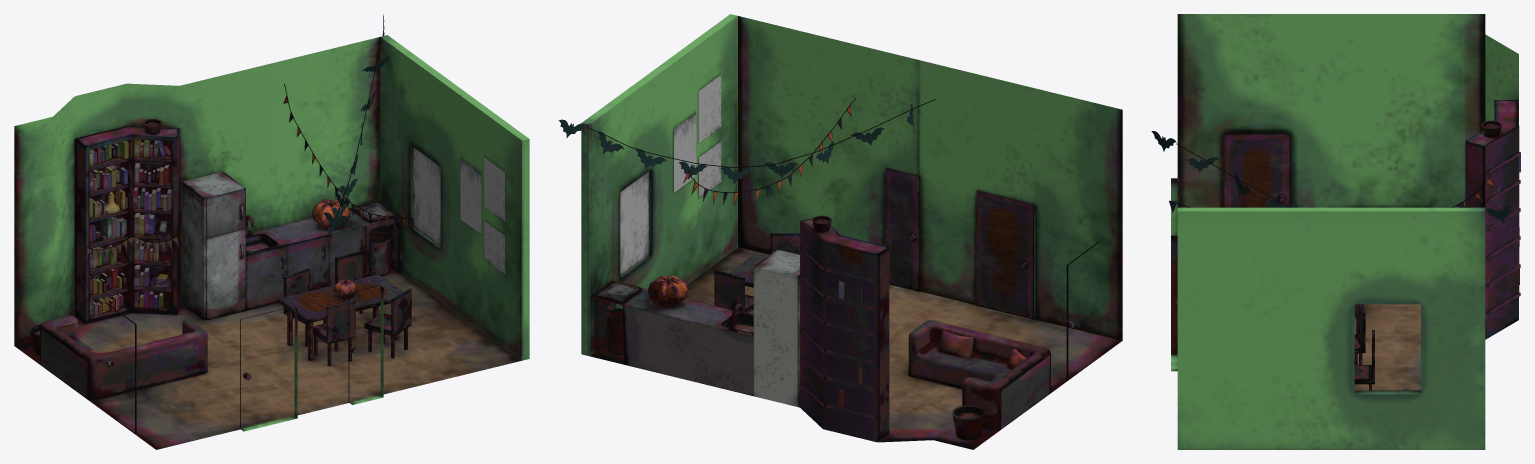
Rendered from house_single_texture.glb.
3 views of the same model, side by side, from view 1: azimuth 30°, elevation 25°; view 2: azimuth 150°, elevation 25°; view 3: azimuth 270°, elevation 25° (orthographic). The views are drawn at different scales.
Parts seen in each view (by area): view 1: mainRoomWall2, mainRoomFloor, mainRoomWall3, mainRoomBookshelf, Fridge, MainRoomsofa, kitchen, tableTop, window, shelves2, shelves1, painting1 (+19 smaller); view 2: mainRoomWall4, mainRoomWall3, mainRoomBookshelf, mainRoomFloor, kitchen, mainRoomWallDoorsClosed, MainRoomsofa, Fridge, window, batDecor, painting1, painting3 (+11 smaller); view 3: mainRoomWall3, mainRoomWall1, mainRoomBookshelf, mainRoomFloor, mainRoomDoor, mainRoomWall2, mainRoomWall4, batDecor, shelves2, ChairTop002, ChairTop003.
Boxes of the visible parts, x1,y1,x2,y2 form: mainRoomWall2: (14, 37, 380, 345); mainRoomFloor: (15, 268, 521, 449); mainRoomWall3: (380, 35, 529, 360); mainRoomBookshelf: (74, 126, 179, 324); Fridge: (182, 172, 245, 320); MainRoomsofa: (40, 315, 207, 400); kitchen: (246, 201, 402, 310); tableTop: (279, 274, 402, 323); window: (413, 147, 440, 246); shelves2: (133, 149, 172, 292); shelves1: (89, 156, 129, 300); painting1: (460, 158, 481, 234); mainRoomWall4: (738, 16, 1122, 340); mainRoomWall3: (581, 14, 737, 355); mainRoomBookshelf: (800, 218, 889, 442); mainRoomFloor: (589, 247, 1121, 449); kitchen: (589, 280, 753, 396); mainRoomWallDoorsClosed: (886, 168, 1033, 319); MainRoomsofa: (908, 320, 1050, 430); Fridge: (753, 249, 799, 406); window: (620, 171, 649, 275); batDecor: (558, 103, 913, 183); painting1: (674, 113, 696, 192); painting3: (698, 75, 721, 143); mainRoomWall3: (1177, 207, 1485, 449); mainRoomWall1: (1177, 14, 1485, 207); mainRoomBookshelf: (1465, 100, 1518, 339); mainRoomFloor: (1354, 304, 1420, 390); mainRoomDoor: (1224, 133, 1289, 207); mainRoomWall2: (1485, 34, 1518, 121); mainRoomWall4: (1171, 178, 1177, 371); batDecor: (1151, 131, 1512, 223); shelves2: (1487, 152, 1520, 314); ChairTop002: (1354, 330, 1374, 384); ChairTop003: (1354, 304, 1365, 353).
Bounding box in the file's own units: 2450 × 1439 × 1887.
Materials: 1 (1 with a texture image).
